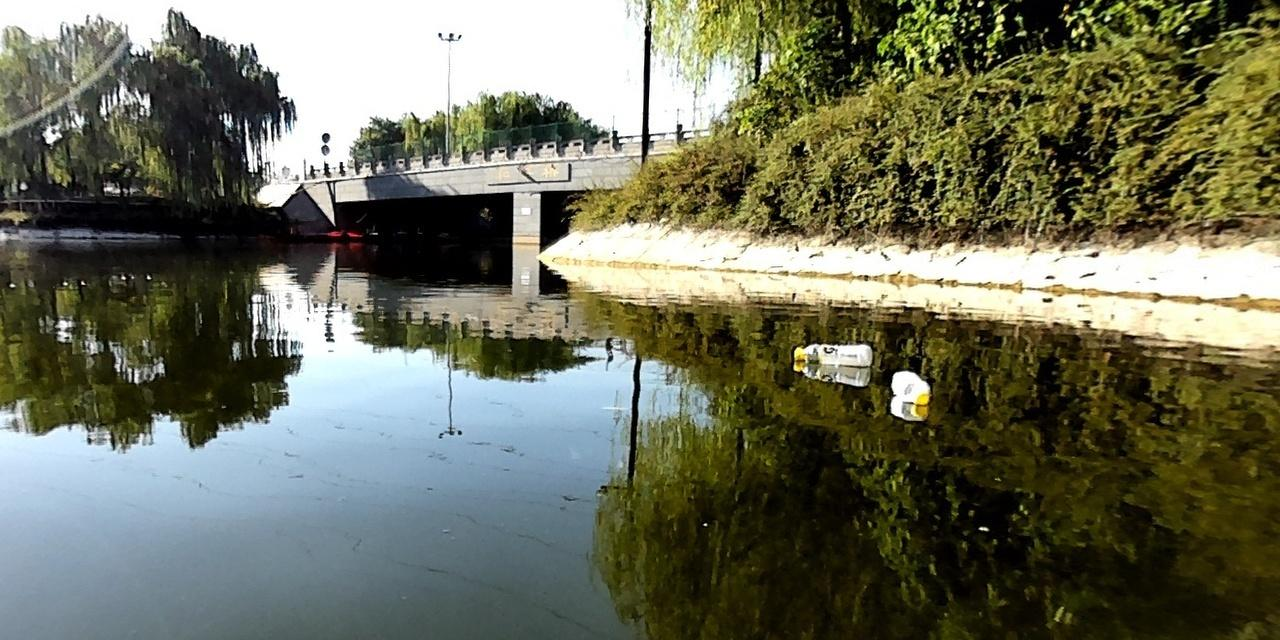bottle: (790, 341, 871, 368), (892, 369, 930, 403)
